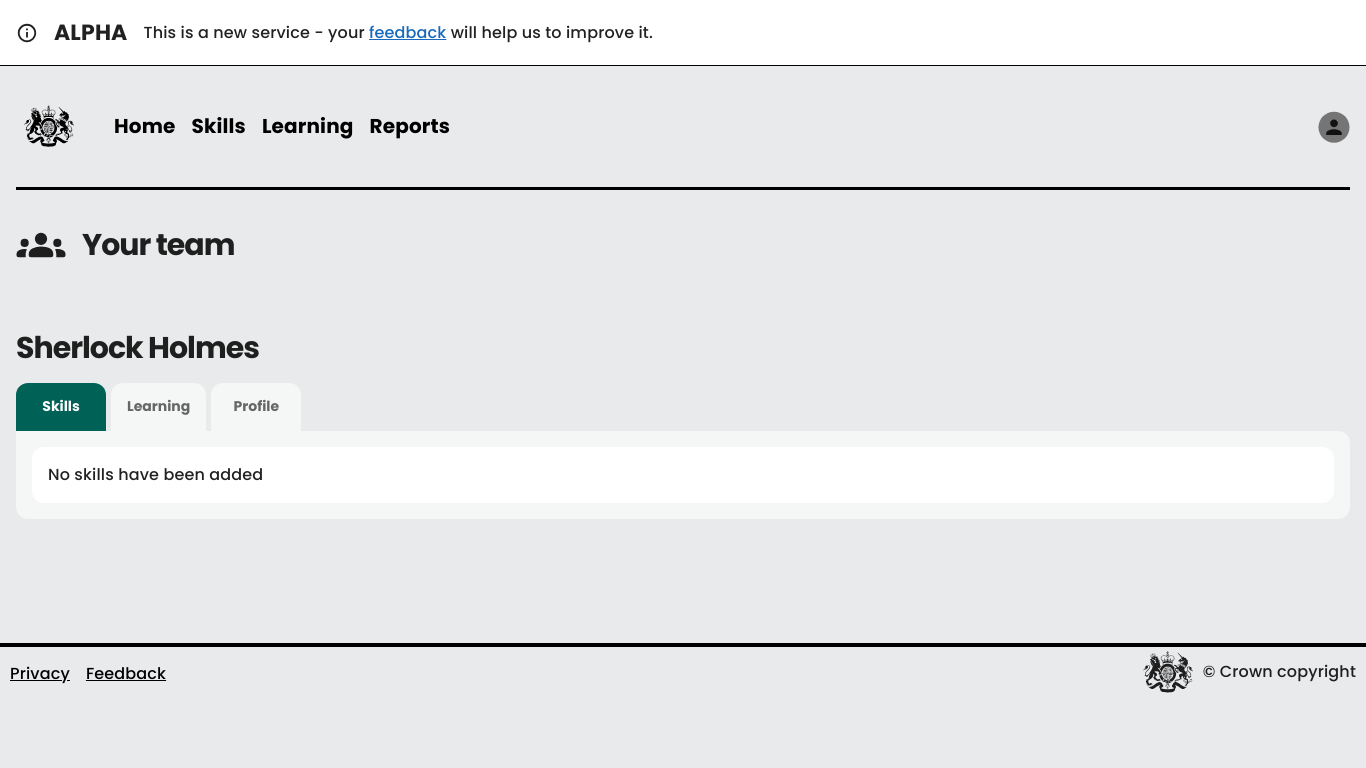
Test: Page: Team member with ID › profile tab
The image size is (1366, 768).
Click the tab with test id "tab-2" at (256,407), box [211,383,301,431]
(page scrolled)
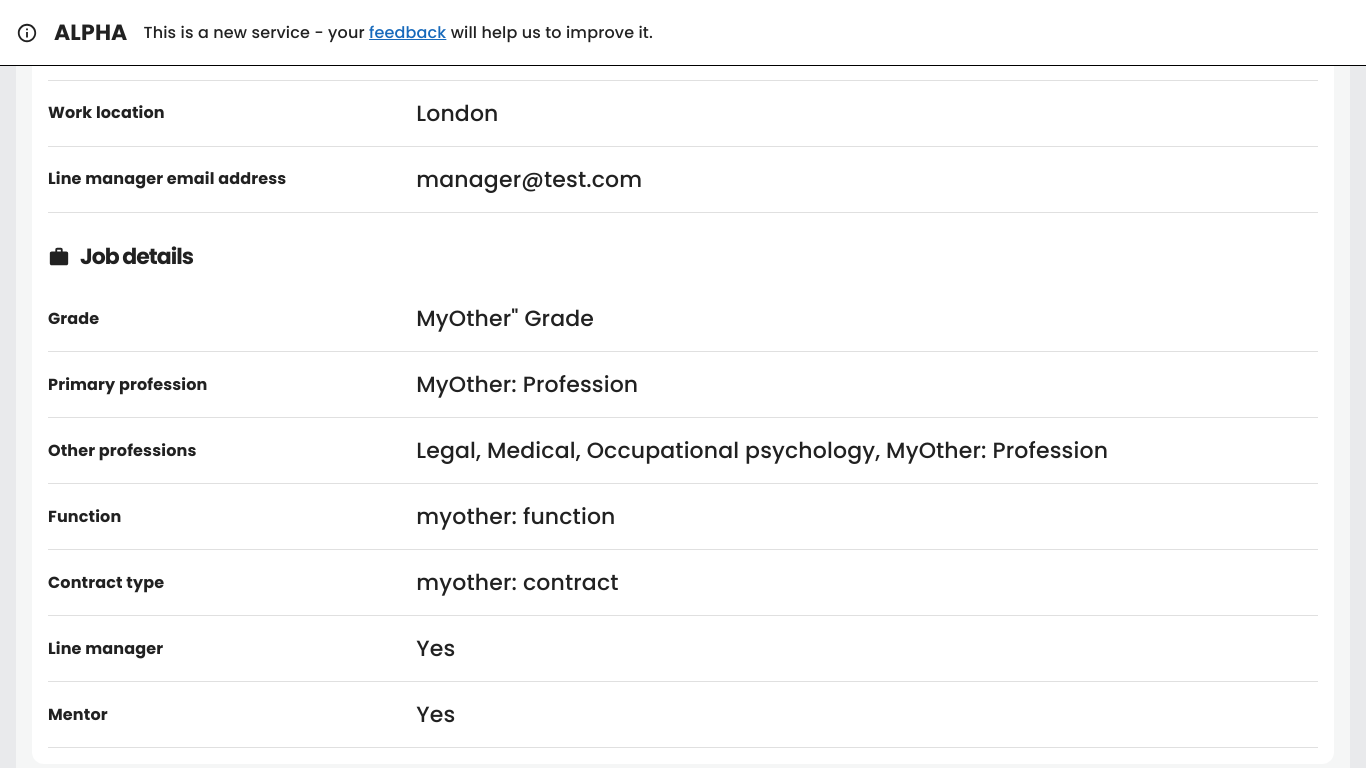
Expected: the text "Security" is shown, [416,32,507,63]
Now the text "London" is shown, box [416,98,498,129]
Now the text "MyOther: Profession" is shown, box [416,369,638,400]
